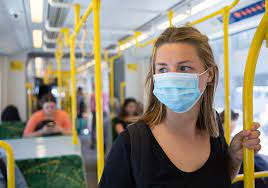FaceMask: (152, 72, 202, 112)
